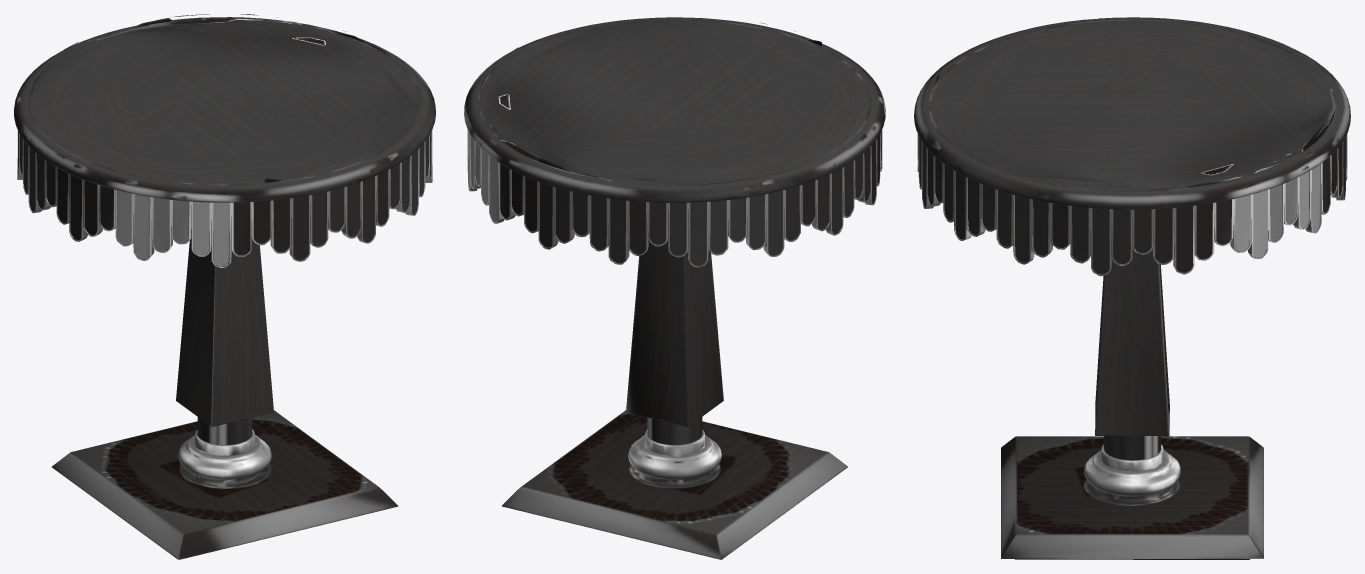
3 views of the same model, side by side, from view 1: azimuth 30°, elevation 25°; view 2: azimuth 150°, elevation 25°; view 3: azimuth 270°, elevation 25° (orthographic). The views are drawn at different scales.
Parts seen in each view (by area): view 1: solid_002, solid_001, glass_001; view 2: solid_002, solid_001, glass_001; view 3: solid_002, solid_001, glass_001.
Part boxes in pixels (x1,y1,x2,y2): solid_002: (14, 17, 435, 559); solid_001: (17, 130, 432, 484); glass_001: (64, 14, 405, 182); solid_002: (464, 17, 885, 559); solid_001: (467, 130, 882, 484); glass_001: (478, 22, 821, 181); solid_002: (914, 17, 1350, 559); solid_001: (917, 133, 1347, 501); glass_001: (929, 64, 1335, 190).
Size of the model in its own units: 1.3 by 1.35 by 1.3.
Materials: 1 (1 with a texture image).
